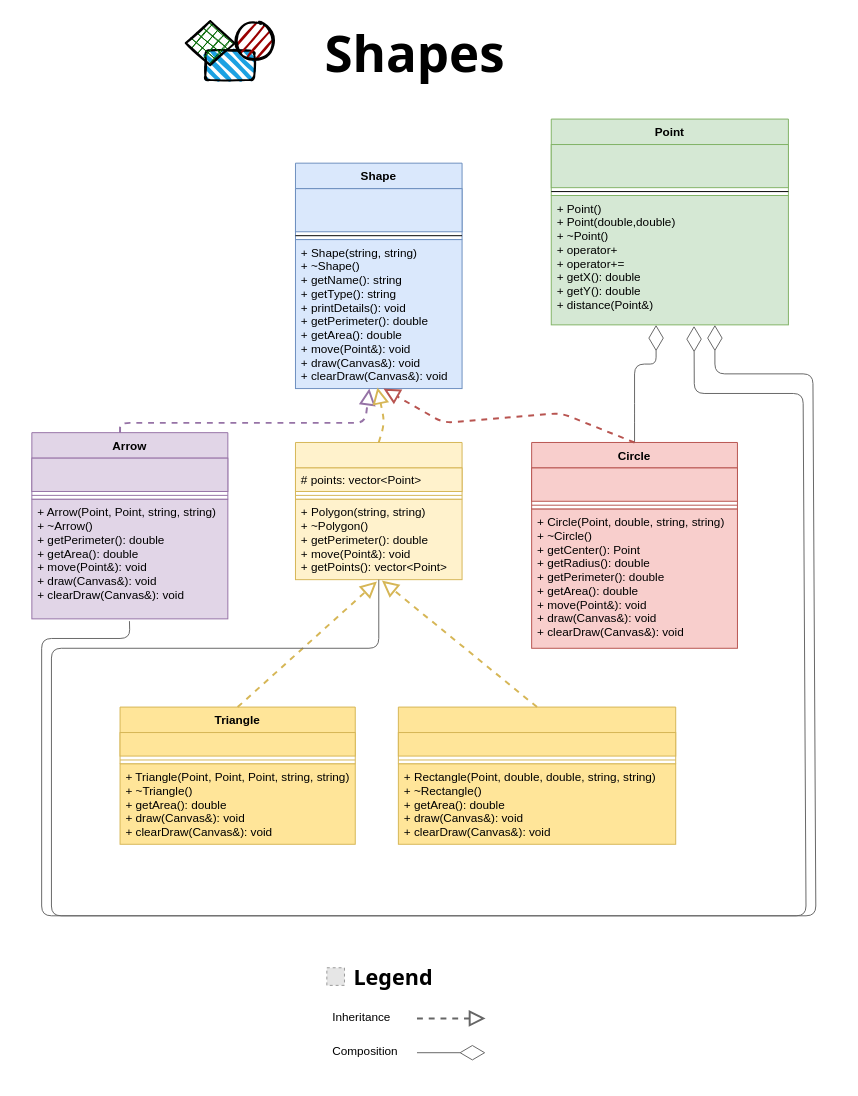
This 858x1096 diagram has some shape labels left out. Grey dashed boxes stand in for pictures. The shapes that lost their labels are listed below. From the top down, each one's box as (x1, y1, x2, y2) in pixels, then its label:
(550, 144, 788, 188): - x: double - y: double
(294, 188, 462, 232): - name: string - type: string
(31, 457, 228, 491): - source: Point - destination: Point
(294, 441, 462, 499): Polygon
(531, 467, 737, 501): - center: Point - radius: double
(397, 706, 676, 764): Rectangle
